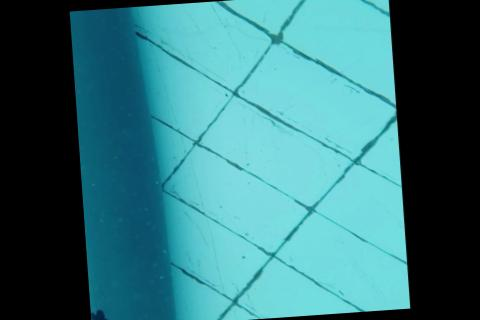kebocoran: (89, 306, 111, 320)
